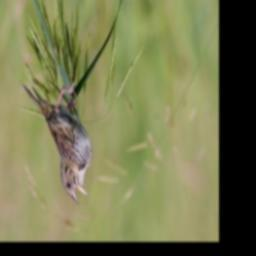Sparrow: (19, 48, 94, 206)
